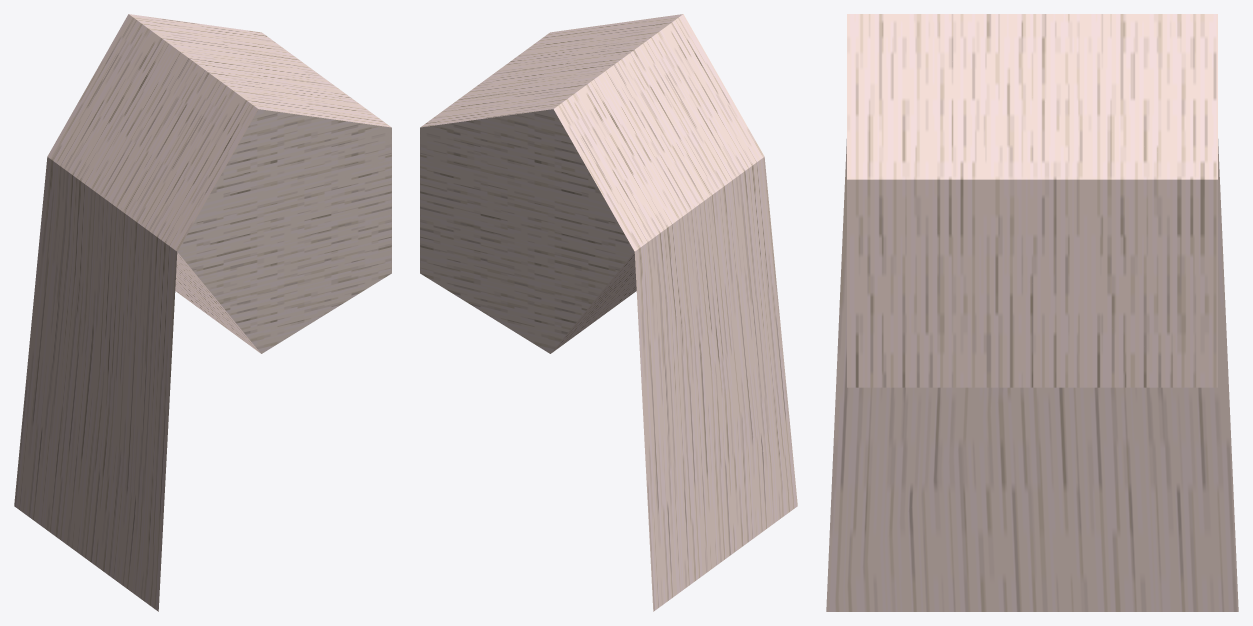
The model's file is Klopapierrolle_2733.glb.
The picture shows the model from 3 angles, left to right: view 1: azimuth 30°, elevation 25°; view 2: azimuth 150°, elevation 25°; view 3: azimuth 270°, elevation 25°; orthographic projection. The views are drawn at different scales.
Visible parts, largest first — view 1: pPlaneShape8, pPlaneShape9; view 2: pPlaneShape8, pPlaneShape10; view 3: pPlaneShape8.
Boxes of the visible parts, bbox=[...] form: pPlaneShape8: bbox=[14, 14, 390, 611]; pPlaneShape9: bbox=[177, 109, 391, 353]; pPlaneShape8: bbox=[421, 14, 797, 611]; pPlaneShape10: bbox=[420, 109, 634, 353]; pPlaneShape8: bbox=[826, 14, 1238, 611].
Size of the model in its own units: 0.0248 by 0.0465 by 0.0259.
3 materials, 3 textured.
